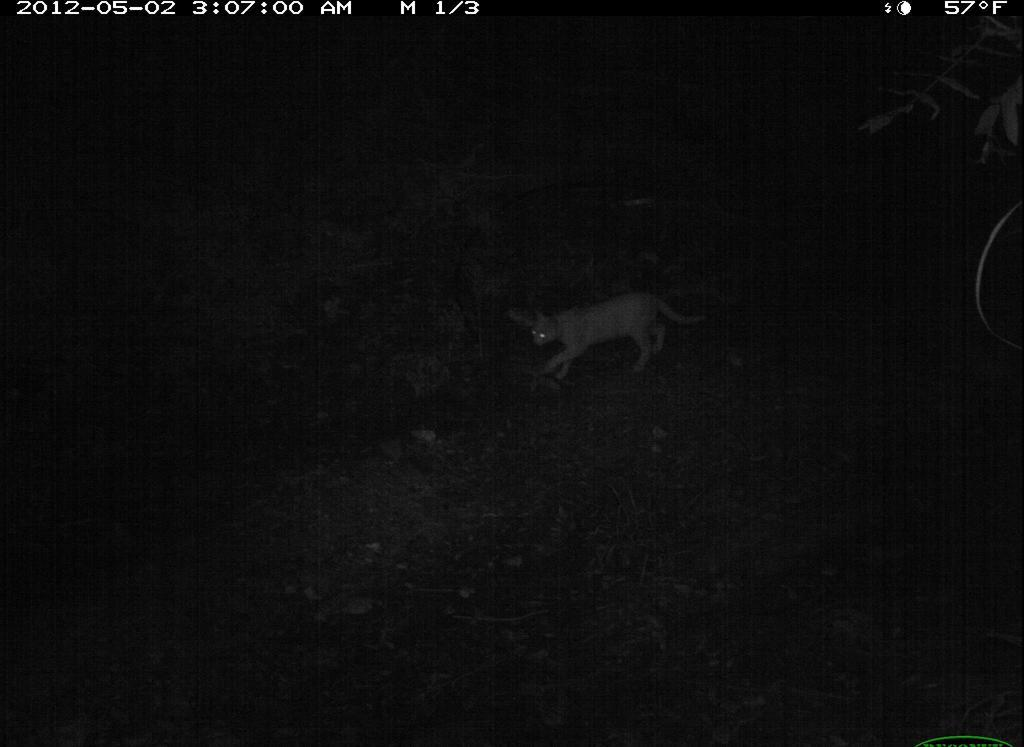cat: (523, 289, 712, 390)
